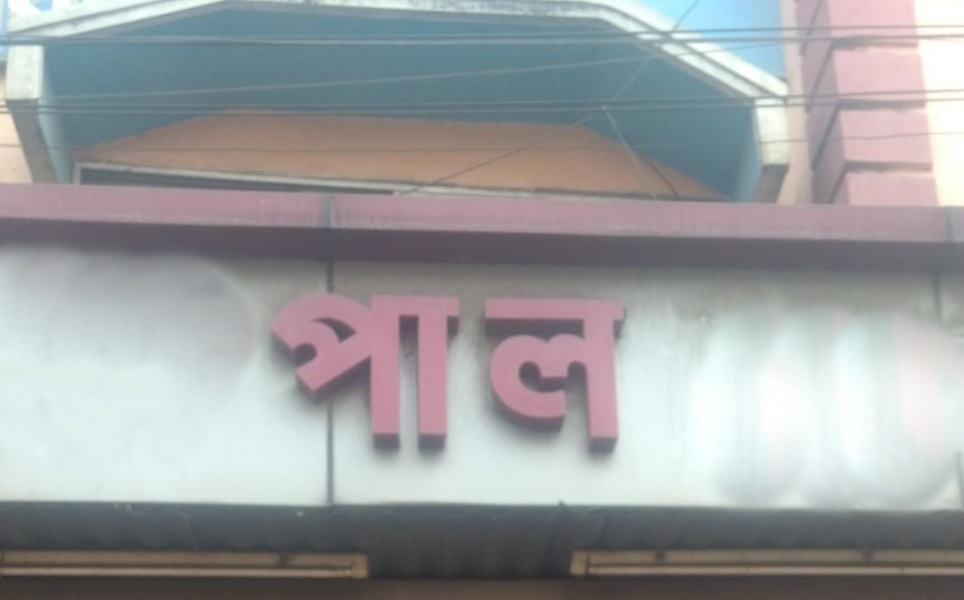text: (273, 288, 288, 466), (289, 288, 304, 466), (305, 288, 320, 466), (321, 288, 336, 466), (337, 288, 352, 466), (353, 288, 368, 466), (369, 288, 384, 466), (385, 288, 400, 466), (401, 288, 416, 466), (417, 288, 432, 466), (433, 288, 448, 466), (449, 288, 464, 466), (465, 288, 480, 466), (481, 288, 496, 466), (497, 288, 512, 466), (513, 288, 528, 466), (529, 288, 544, 466), (545, 288, 560, 466), (561, 288, 576, 466), (577, 288, 592, 466), (593, 288, 608, 466), (609, 288, 624, 466), (625, 288, 633, 466), (267, 288, 272, 466)
